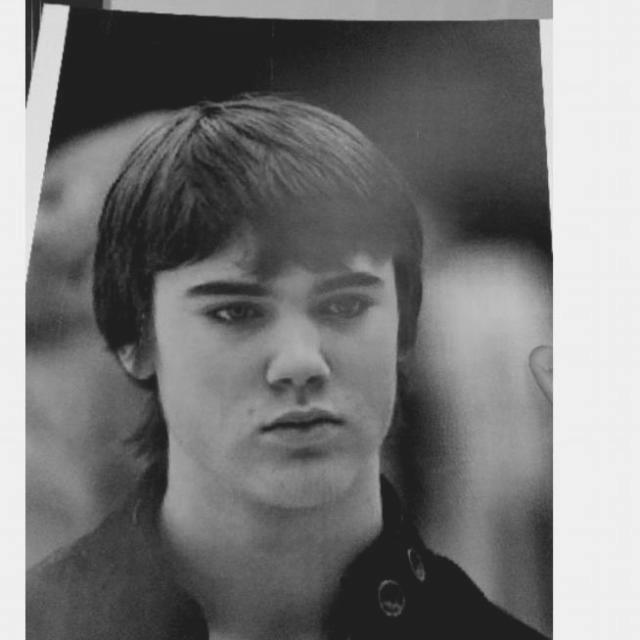fake: (28, 0, 554, 640)
